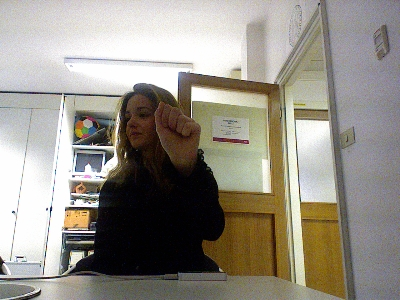石头: (153, 100, 201, 164)
